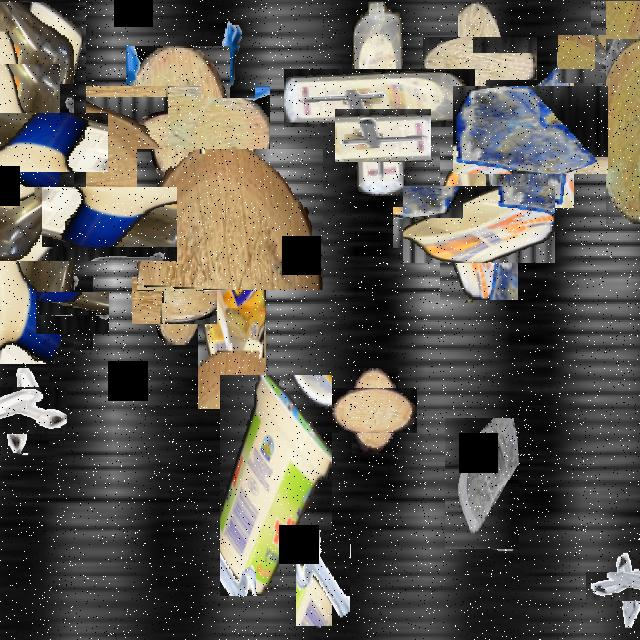glass: (469, 69, 591, 191), (445, 418, 519, 549), (574, 17, 640, 99)
metal: (346, 98, 420, 172), (201, 2, 255, 98), (296, 530, 350, 626), (0, 377, 58, 443), (402, 198, 460, 257), (43, 284, 101, 342), (598, 559, 640, 613)
plastic: (220, 375, 332, 596), (0, 135, 125, 312), (0, 2, 86, 250), (316, 36, 442, 160), (422, 166, 536, 282), (198, 235, 266, 409), (0, 87, 84, 196)
wood: (137, 150, 323, 292), (106, 66, 250, 211), (440, 19, 520, 98), (606, 39, 640, 224), (142, 267, 208, 334), (342, 378, 408, 443)
